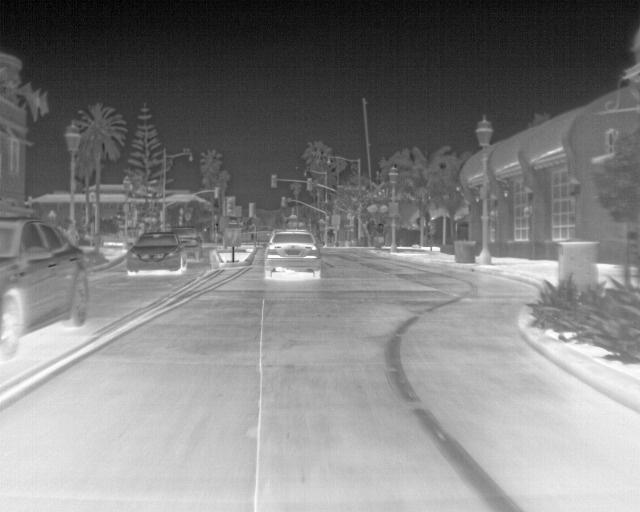bicycle: (1, 212, 91, 362), (261, 229, 322, 279), (124, 230, 187, 275), (172, 228, 205, 262)
